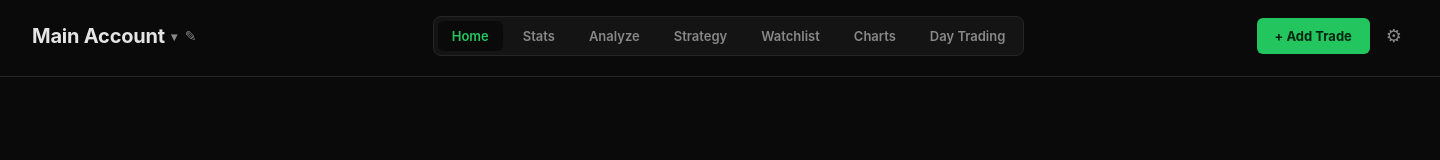
Test: Header › does not rename the active account when the inline edit is cancelled
Click the button named "rename main account": (191, 36) [181,25,200,47]
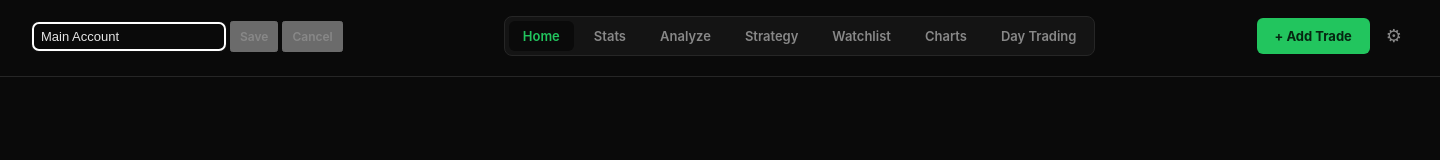
Click the button "Cancel": (313, 36) [282,20,343,52]
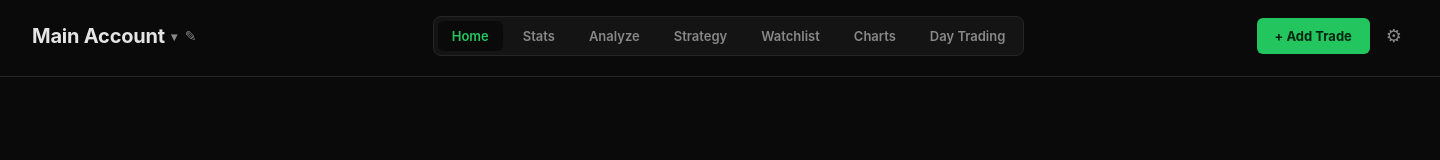
expect the button "Main Account" is shown: met, box [32,20,177,52]
